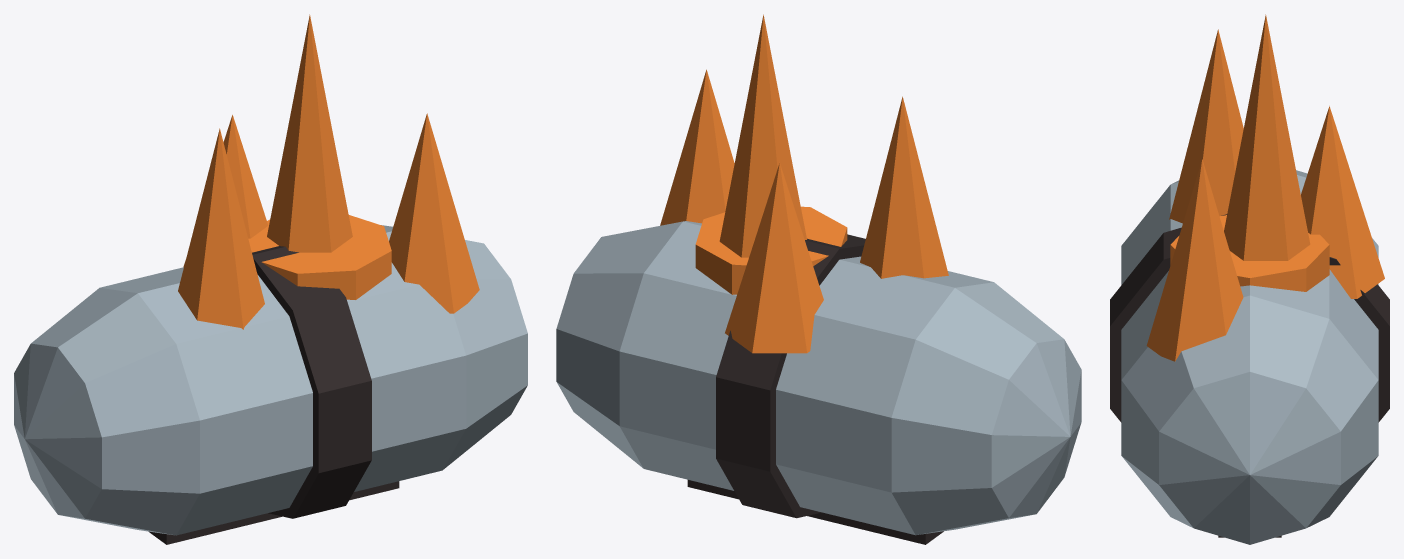
File: quest_burning_power_cell.obj
3 renders of one model, left to right at view 1: azimuth 30°, elevation 25°; view 2: azimuth 150°, elevation 25°; view 3: azimuth 270°, elevation 25°, orthographic. The views are drawn at different scales.
Parts seen in each view (by area): view 1: quest_burning_power_cell; view 2: quest_burning_power_cell; view 3: quest_burning_power_cell.
Part boxes in pixels (x1,y1,x2,y2): quest_burning_power_cell: [14, 14, 527, 544]; quest_burning_power_cell: [556, 14, 1081, 544]; quest_burning_power_cell: [1110, 14, 1389, 544].
Size of the model in its own units: 0.74 by 0.68 by 0.3519.
